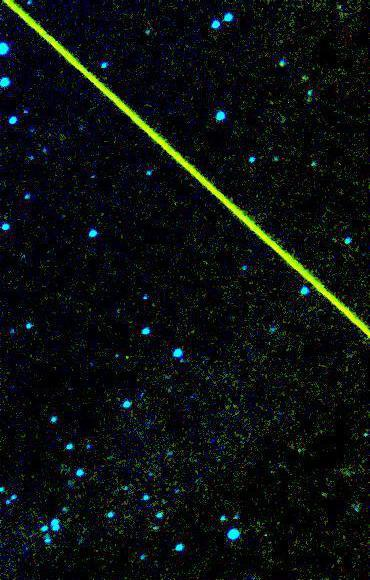star: (258, 88, 288, 118)
